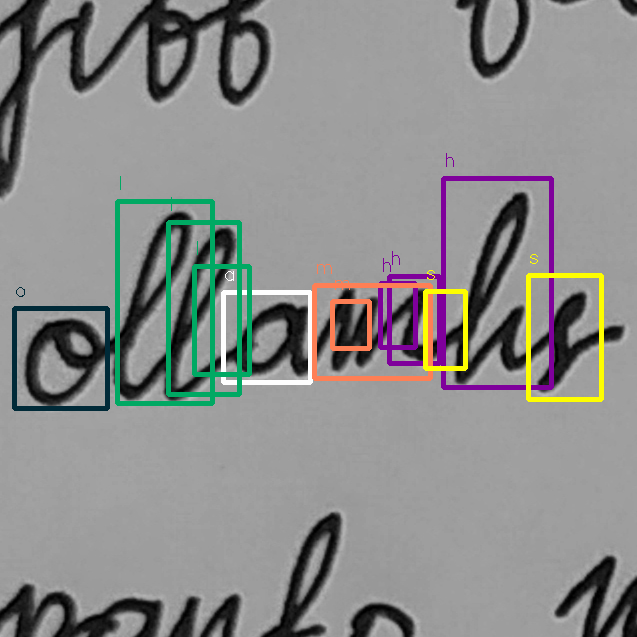a: (228, 295, 316, 388)
h: (450, 187, 538, 388)
l: (107, 207, 200, 403), (158, 222, 242, 404)
m: (321, 280, 433, 378)
o: (20, 315, 106, 409)
s: (530, 285, 599, 397)
